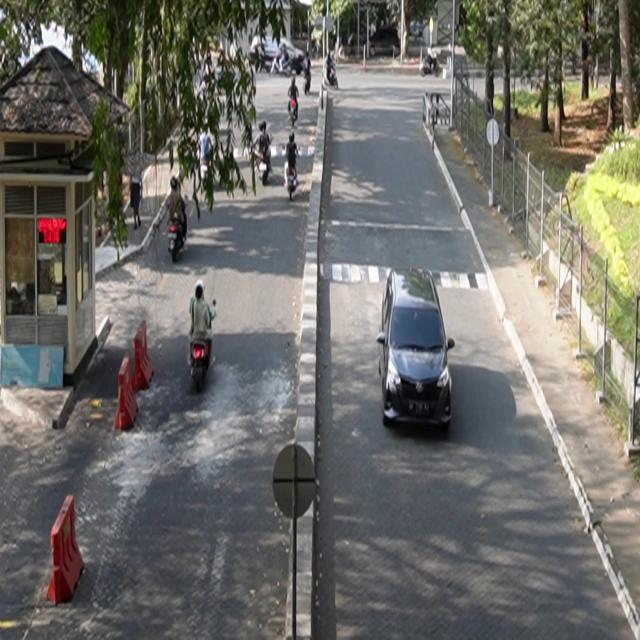car: (377, 267, 456, 430)
